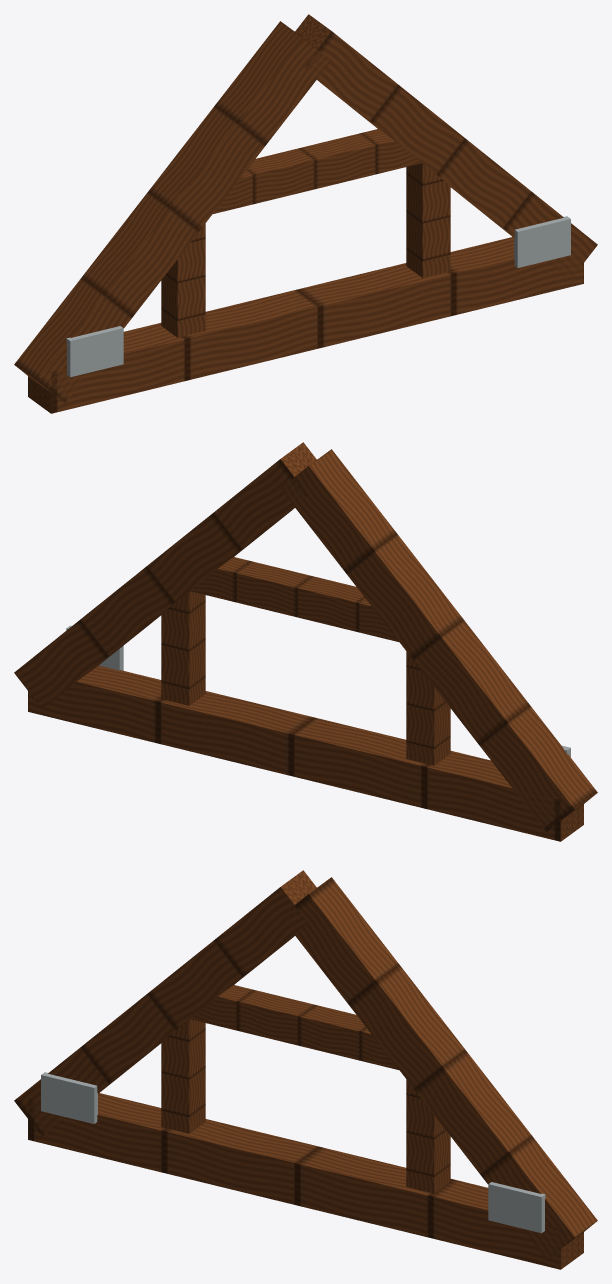
The model's file is modular-survival-base-builder-queen-post-truss-78c7ef89__24250.glb.
3 renders of one model, top to bottom at view 1: azimuth 30°, elevation 25°; view 2: azimuth 150°, elevation 25°; view 3: azimuth 330°, elevation 25°, orthographic.
Visible parts, largest first — view 1: queen-post-truss; view 2: queen-post-truss; view 3: queen-post-truss.
Part boxes in pixels (left/top/right/bottom): queen-post-truss: left=14, top=14, right=597, bottom=413; queen-post-truss: left=14, top=442, right=597, bottom=841; queen-post-truss: left=14, top=870, right=597, bottom=1269.
Bounding box in the file's own units: 2.11 × 1.13 × 0.17.
2 materials, 1 textured.
